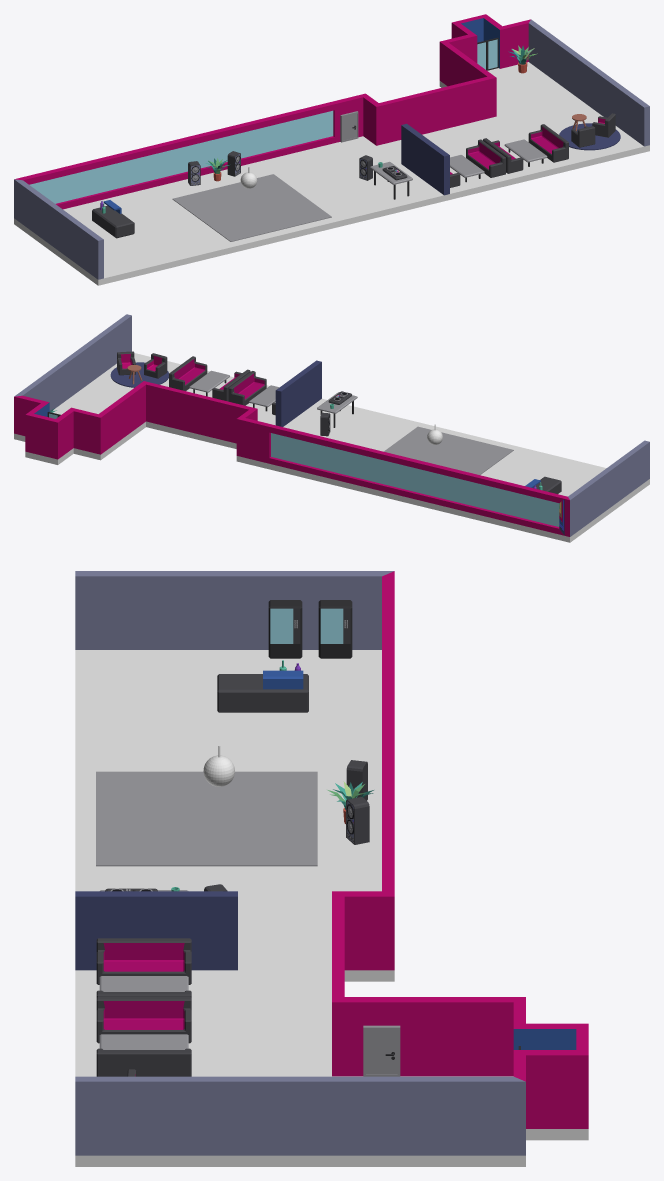
Rendered from PartyFloor.fbx.
3 views of the same model, one above another, from view 1: azimuth 30°, elevation 25°; view 2: azimuth 150°, elevation 25°; view 3: azimuth 270°, elevation 25° (orthographic). The views are drawn at different scales.
Parts seen in each view (by area): view 1: BodenPartFloor, WallPartyFloor, WallPartyFloorWindow, Danceloor, BarTheke, Sofa.003, Sofa.001, Teppich, Eingangsfloor Tisch.005, DoorBalkon, Eingangsfloor Tisch.004, Eingangsfloor Tisch.001 (+3 smaller); view 2: WallPartyFloor, BodenPartFloor, WallPartyFloorWindow, Danceloor, Sofa.001, Sofa.003, Teppich, Eingangsfloor Tisch.005, Sessel.005, BarTheke, Eingangsfloor Tisch.004, Eingangsfloor Tisch.001 (+2 smaller); view 3: WallPartyFloor, BodenPartFloor, Danceloor, Sofa.002, BarTheke, Sofa, Sofa.003, Fridge.001, Fridge.002, DoorBalkon.001, Eingangsfloor Tisch.005, Eingangsfloor Tisch.004 (+2 smaller).
Boxes of the visible parts, left/top/right/bottom form: BodenPartFloor: left=14, top=62, right=649, bottom=285; WallPartyFloor: left=14, top=14, right=649, bottom=279; WallPartyFloorWindow: left=29, top=110, right=333, bottom=203; Danceloor: left=172, top=174, right=331, bottom=241; BarTheke: left=92, top=200, right=134, bottom=238; Sofa.003: left=528, top=124, right=568, bottom=162; Sofa.001: left=466, top=139, right=505, bottom=177; Teppich: left=559, top=123, right=620, bottom=150; Eingangsfloor Tisch.005: left=504, top=139, right=547, bottom=166; DoorBalkon: left=340, top=111, right=358, bottom=142; Eingangsfloor Tisch.004: left=450, top=155, right=484, bottom=182; Eingangsfloor Tisch.001: left=370, top=161, right=412, bottom=199; WallPartyFloor: left=14, top=314, right=649, bottom=536; BodenPartFloor: left=14, top=353, right=649, bottom=542; WallPartyFloorWindow: left=271, top=433, right=559, bottom=526; Danceloor: left=384, top=426, right=513, bottom=474; Sofa.001: left=228, top=371, right=266, bottom=405; Sofa.003: left=169, top=356, right=207, bottom=390; Teppich: left=110, top=362, right=168, bottom=387; Eingangsfloor Tisch.005: left=189, top=370, right=229, bottom=396; Sessel.005: left=144, top=353, right=167, bottom=378; BarTheke: left=525, top=476, right=561, bottom=493; Eingangsfloor Tisch.004: left=249, top=385, right=279, bottom=411; Eingangsfloor Tisch.001: left=317, top=392, right=357, bottom=427; WallPartyFloor: left=75, top=571, right=588, bottom=1155; BodenPartFloor: left=75, top=650, right=588, bottom=1166; Danceloor: left=96, top=771, right=317, bottom=866; Sofa.002: left=96, top=996, right=191, bottom=1043; BarTheke: left=217, top=670, right=308, bottom=712; Sofa: left=96, top=938, right=191, bottom=984; Sofa.003: left=96, top=1048, right=191, bottom=1076; Fridge.001: left=318, top=600, right=352, bottom=658; Fridge.002: left=268, top=600, right=302, bottom=658; DoorBalkon.001: left=363, top=1025, right=400, bottom=1076; Eingangsfloor Tisch.005: left=99, top=1034, right=188, bottom=1049; Eingangsfloor Tisch.004: left=99, top=976, right=188, bottom=991.
Size of the model in its own units: 9650 by 750 by 4100.
Materials: 1 (1 with a texture image).
